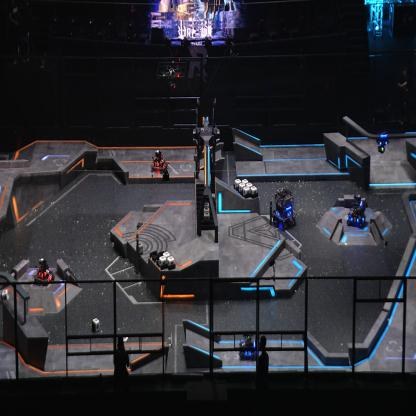car: (270, 186, 297, 231), (346, 191, 367, 230), (32, 256, 55, 288), (238, 331, 258, 362), (151, 148, 168, 174)
